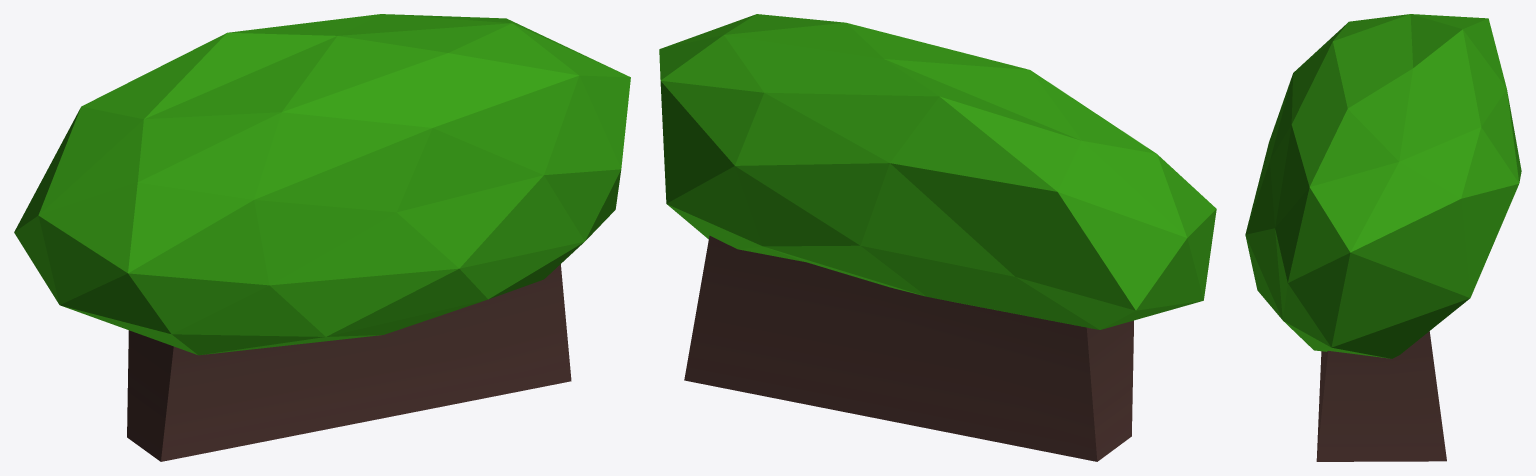
Rendered from Shrub_Short.glb.
3 renders of one model, left to right at view 1: azimuth 30°, elevation 25°; view 2: azimuth 150°, elevation 25°; view 3: azimuth 270°, elevation 25°, orthographic. The views are drawn at different scales.
Parts seen in each view (by area): view 1: Shrub.Short; view 2: Shrub.Short; view 3: Shrub.Short.
Boxes of the visible parts, box(x1,y1,x2,y2) form: Shrub.Short: box(14, 14, 630, 461); Shrub.Short: box(659, 14, 1216, 461); Shrub.Short: box(1245, 14, 1521, 461).
Bounding box in the file's own units: 1.92 × 1.16 × 0.9165.
Materials: 1 (1 with a texture image).
